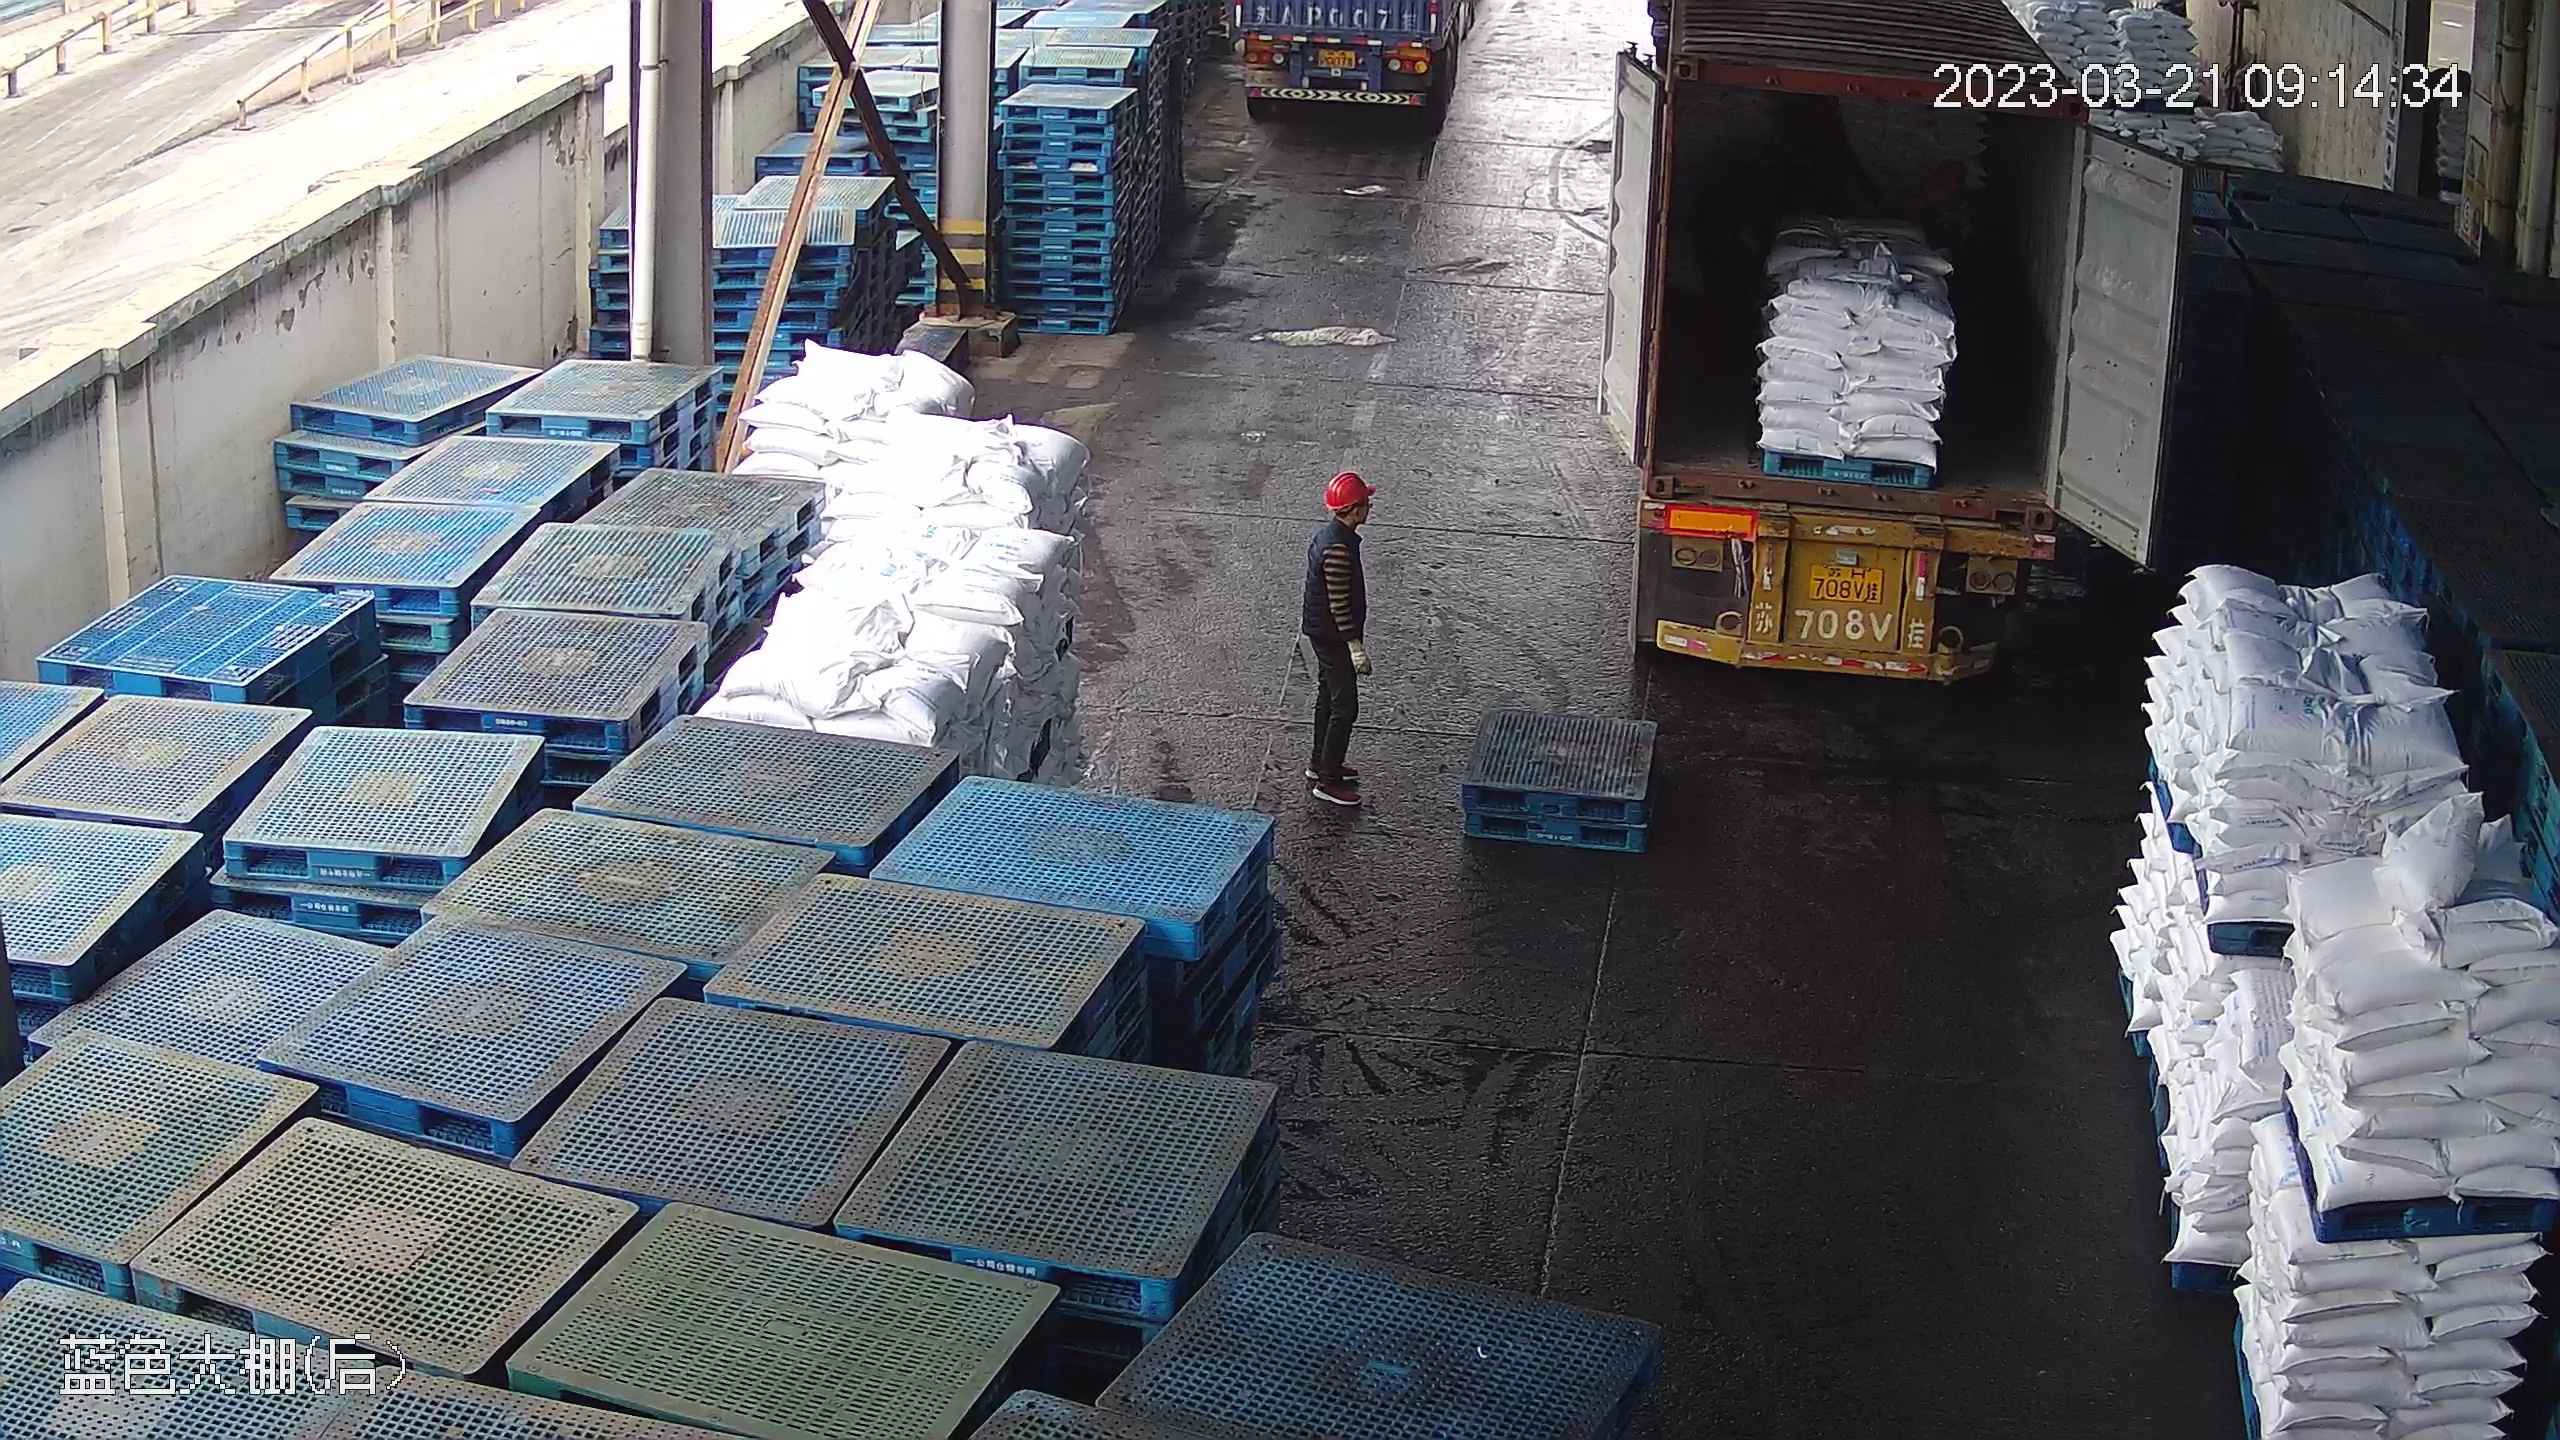head: (1306, 469, 1376, 570)
helmet: (1323, 469, 1373, 509)
people: (1298, 470, 1384, 813)
truck: (1601, 10, 2094, 694)
